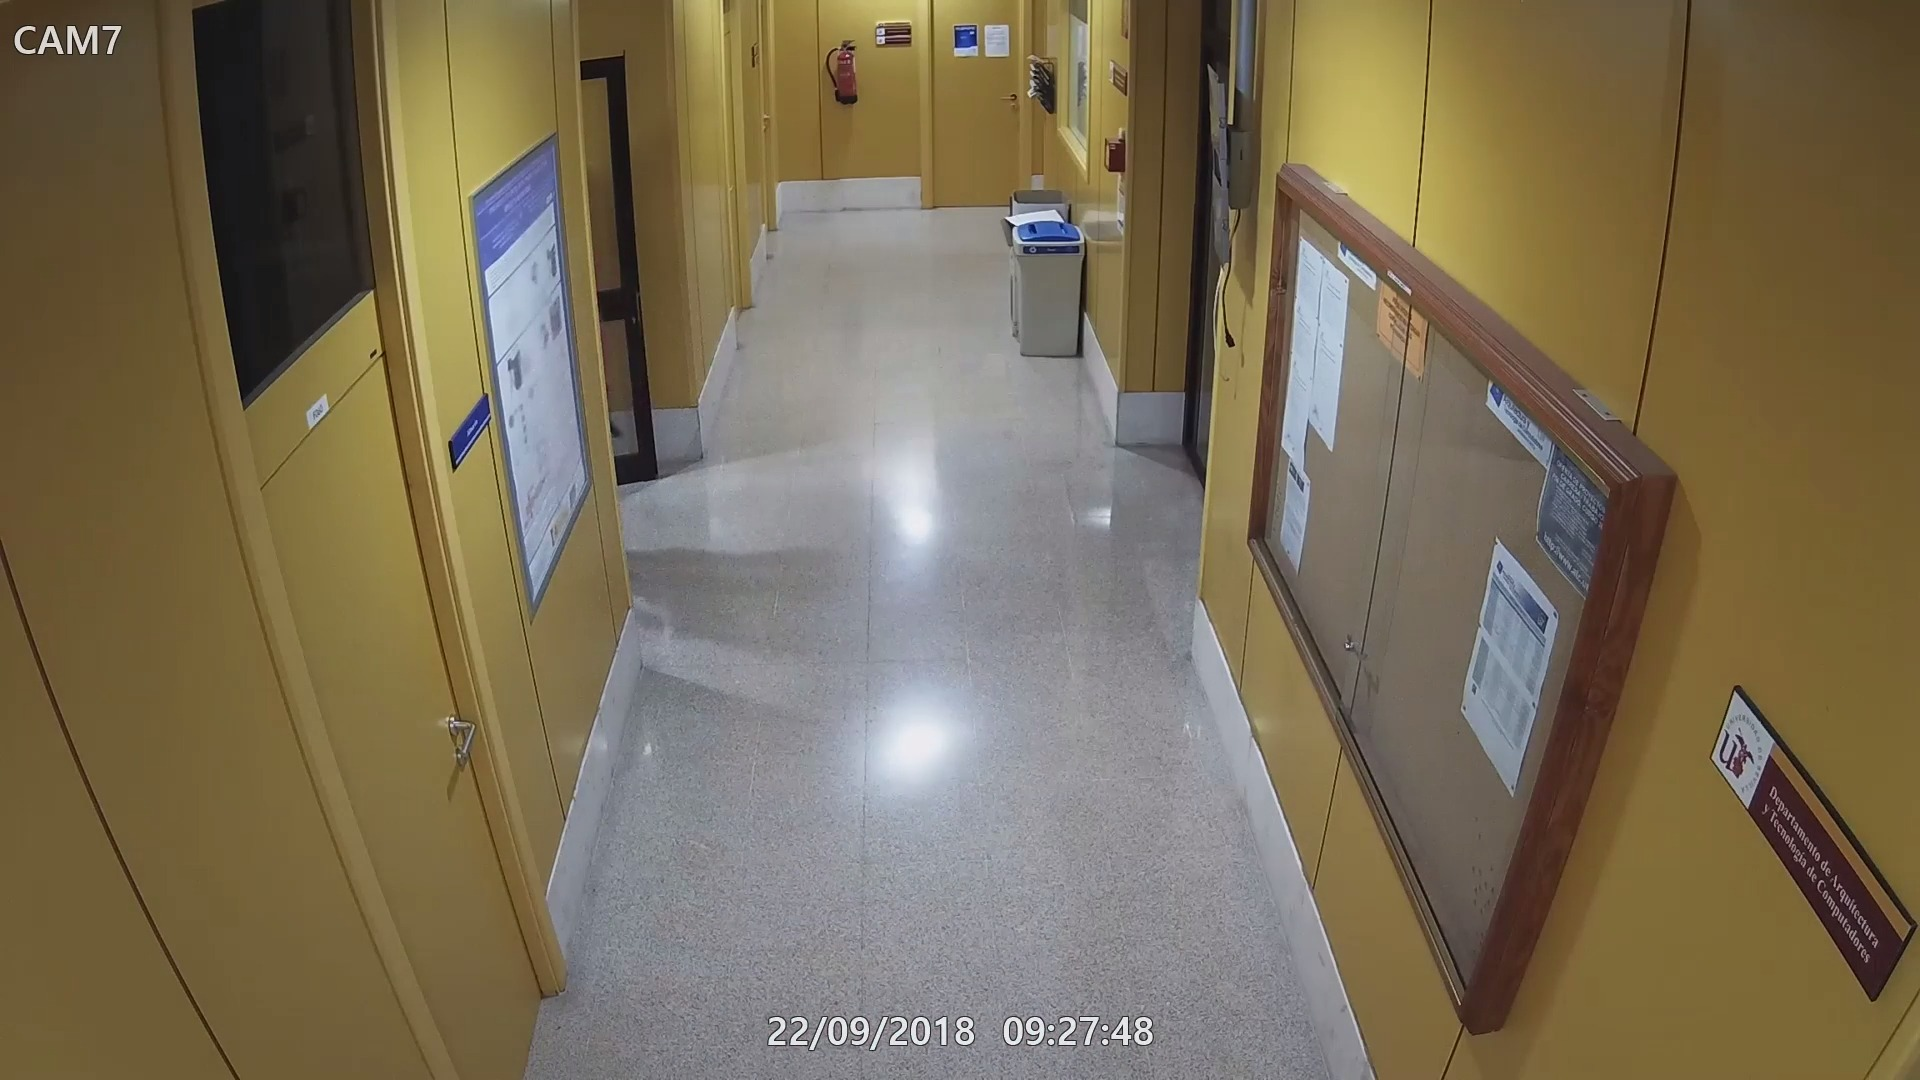Handgun: (603, 378, 624, 440)
